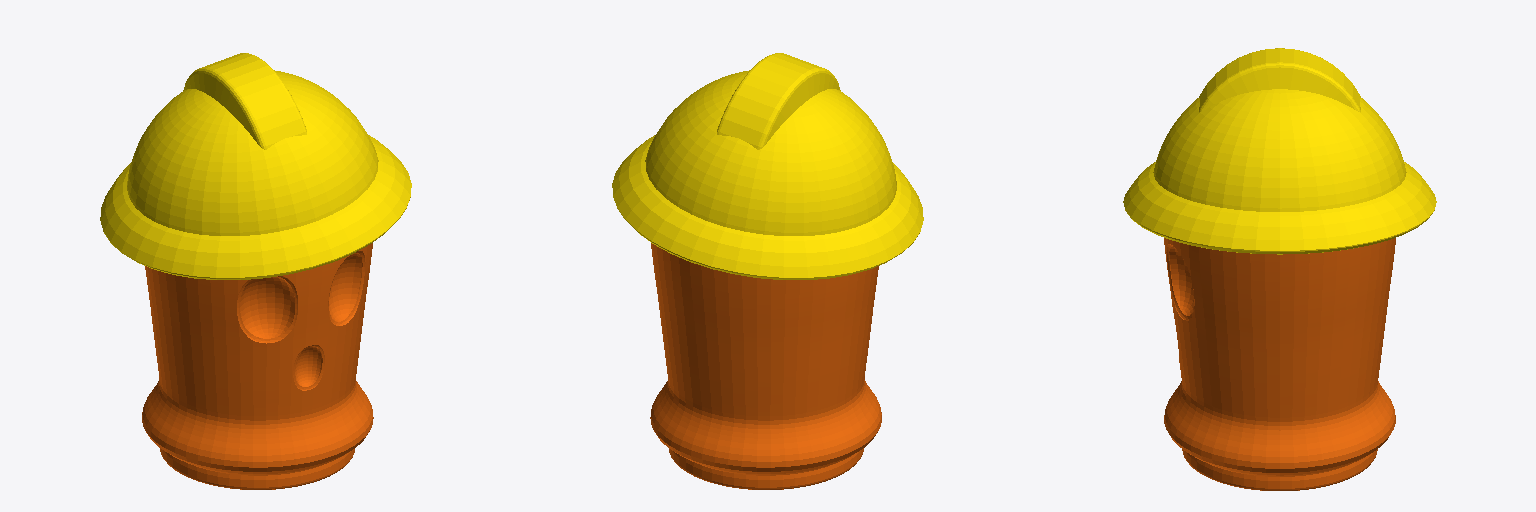
Rendered from capBody_tex.obj.
The picture shows the model from 3 angles: view 1: azimuth 30°, elevation 25°; view 2: azimuth 150°, elevation 25°; view 3: azimuth 270°, elevation 25°; orthographic projection.
Visible parts, largest first — view 1: CapBody_out; view 2: CapBody_out; view 3: CapBody_out.
Part boxes in pixels (bbox=[...]): CapBody_out: bbox=[100, 53, 411, 489]; CapBody_out: bbox=[612, 53, 923, 489]; CapBody_out: bbox=[1123, 48, 1436, 490].
Size of the model in its own units: 46.96 by 65.05 by 47.3.